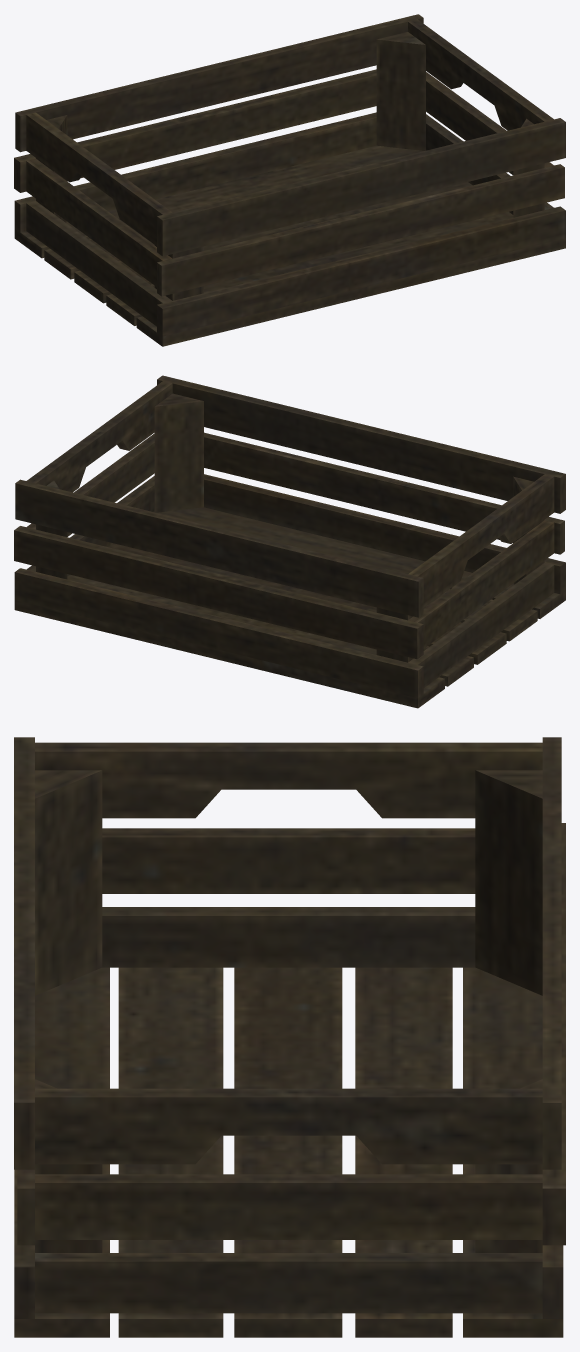
File: supply_crate_1_1_empty.obj
3 renders of one model, top to bottom at view 1: azimuth 30°, elevation 25°; view 2: azimuth 150°, elevation 25°; view 3: azimuth 270°, elevation 25°, orthographic. The views are drawn at different scales.
Parts seen in each view (by area): view 1: supply_crate_1_1_empty; view 2: supply_crate_1_1_empty; view 3: supply_crate_1_1_empty.
Boxes of the visible parts, x1,y1,x2,y2 form: supply_crate_1_1_empty: (14, 14, 565, 346); supply_crate_1_1_empty: (14, 375, 565, 708); supply_crate_1_1_empty: (14, 737, 565, 1337).
Bounding box in the file's own units: 0.668 × 0.2 × 0.4262.
